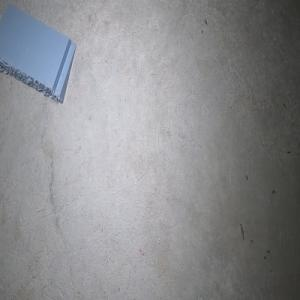PlasticPart: (0, 3, 76, 103)
